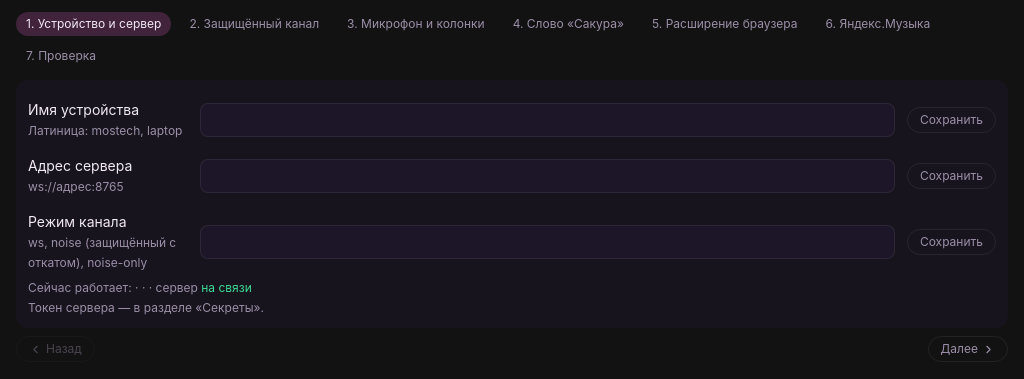
Test case: слово «Сакура»: слух перешёл в «слушаю» — успех
Later steps or results of the test are not shown.
Click the button "4. Слово «Сакура»" at [568, 24], box [503,12,634,36]
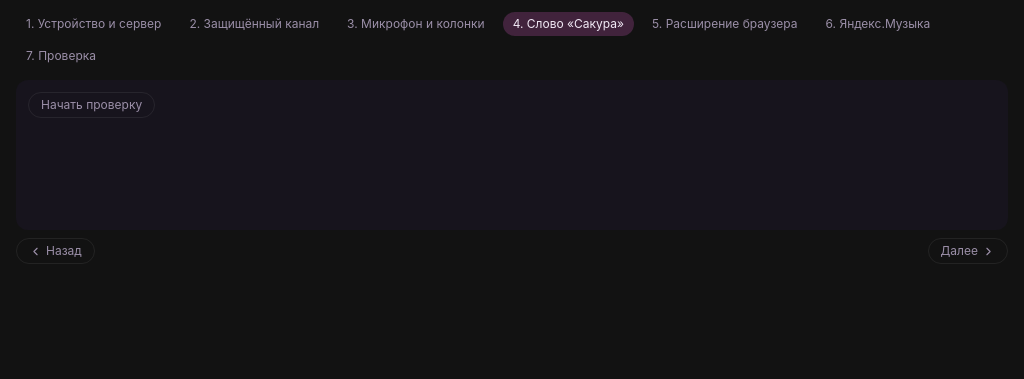
Click the button "Начать проверку" at [92, 105], box [28,92,155,118]
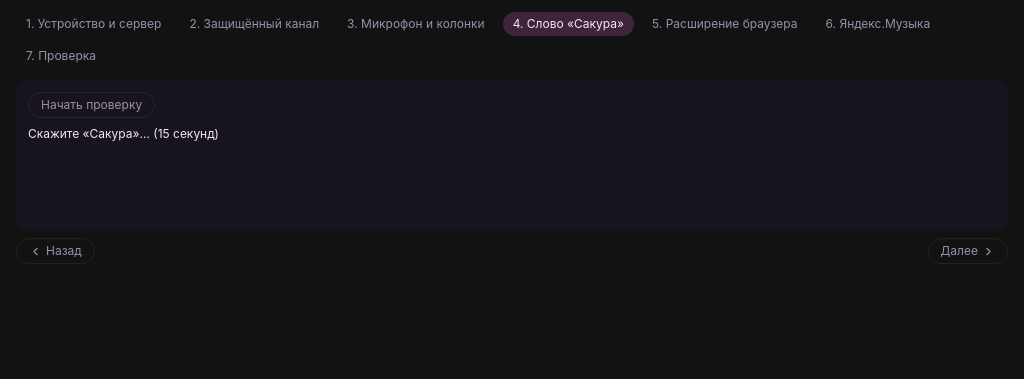
Expected: the text "Скажите «Сакура»… (15 секунд)" is shown, [28,126,219,141]
